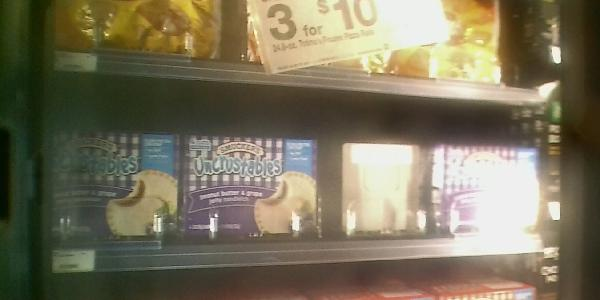icecream: (42, 129, 180, 246), (180, 132, 322, 243), (428, 139, 542, 237)
